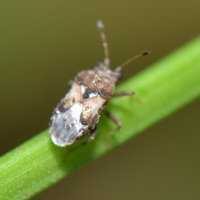insect: (50, 20, 149, 146)
